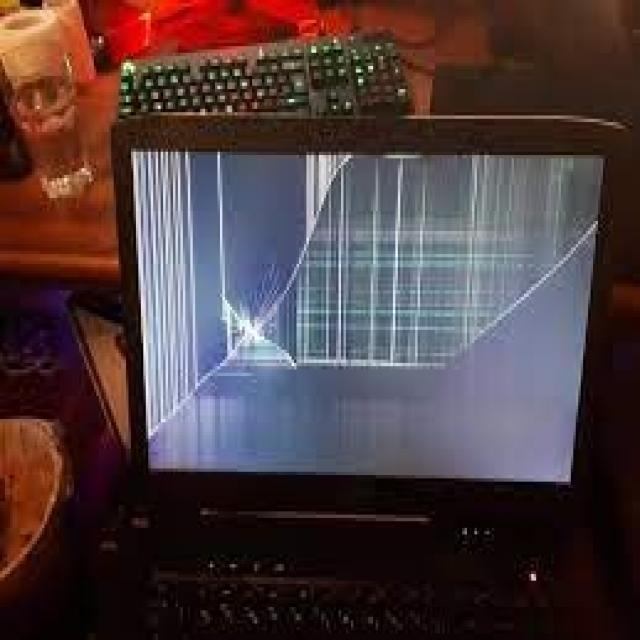Screen cracks: (153, 165, 341, 452), (474, 208, 602, 379)
